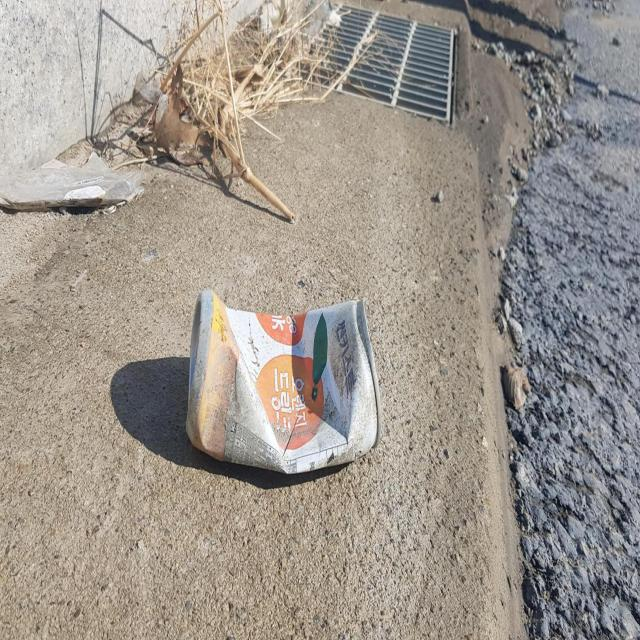can: (186, 289, 382, 474)
